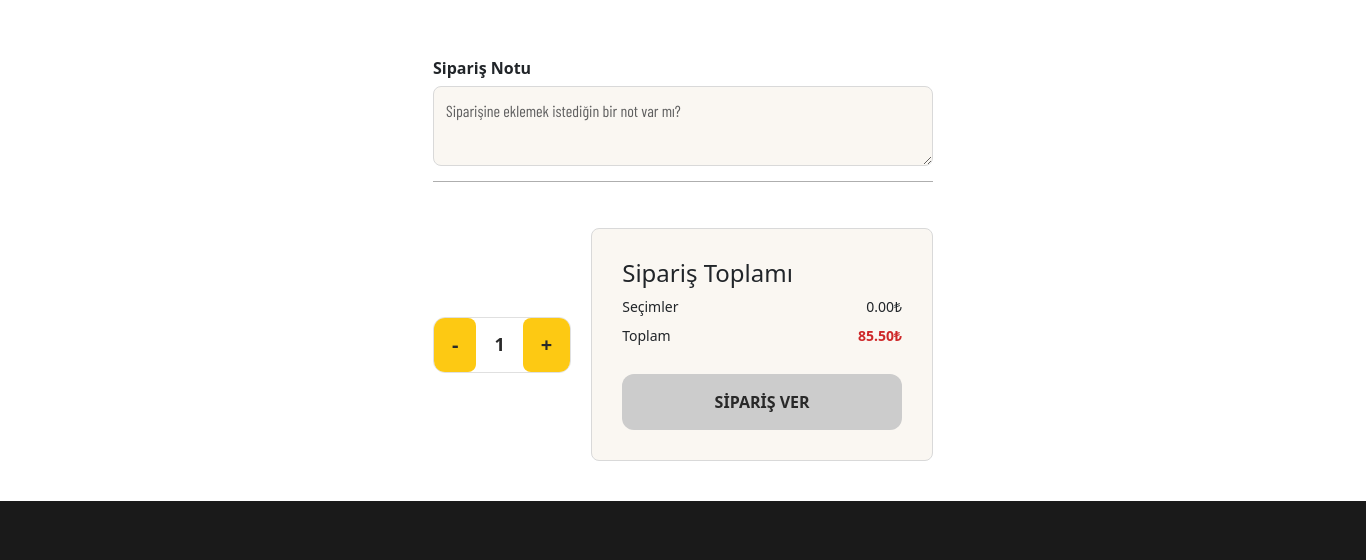
Scenario: Pizza Order Page Tests › should increase and decrease quantity
The image size is (1366, 560).
(page scrolled)
Click the button with test id "btn-increase": (547, 345) x1=523 y1=318 x2=571 y2=372
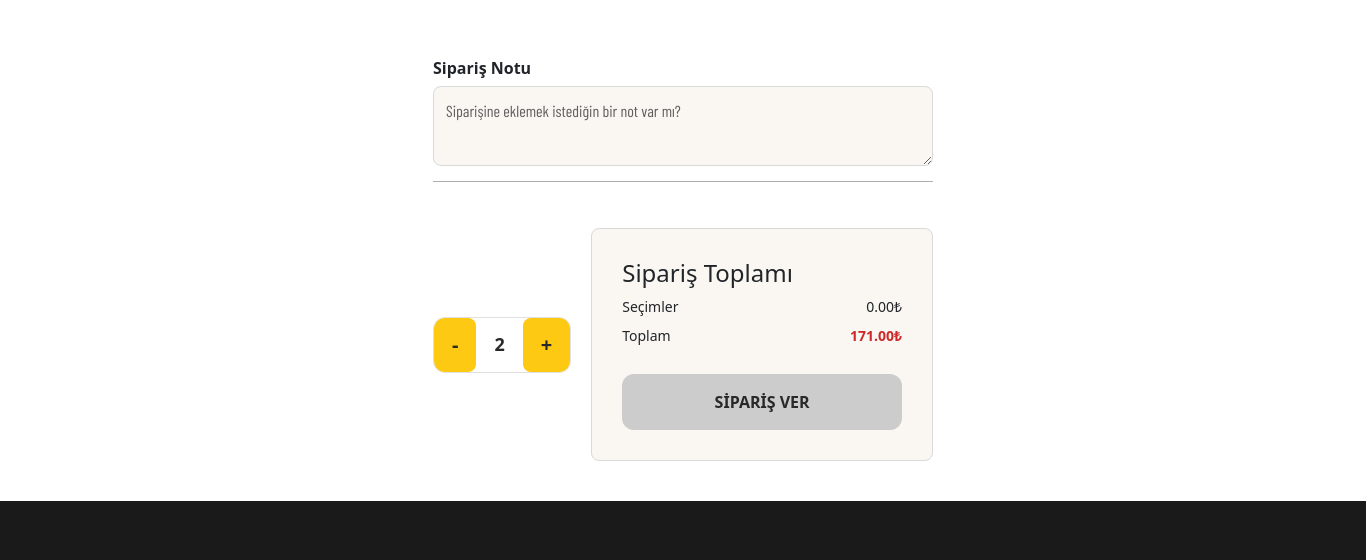
Result: the text with test id "quantity-display" reads "2" at x1=477 y1=319 x2=523 y2=370
Click the button with test id "btn-decrease": (456, 345) x1=434 y1=318 x2=477 y2=372
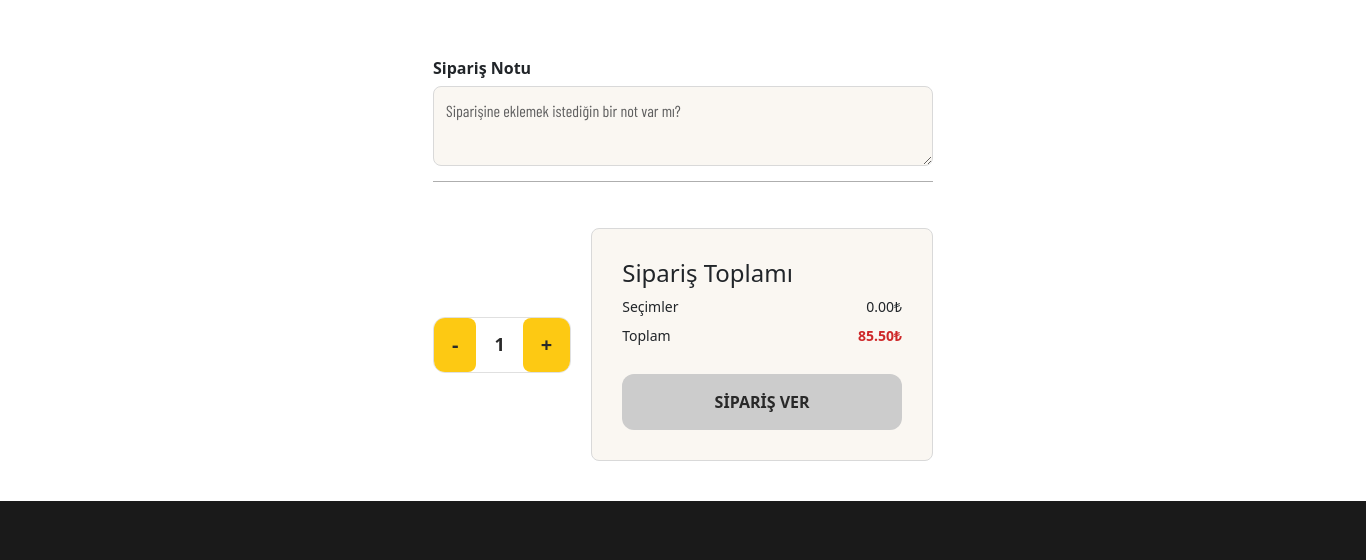
Result: the text with test id "quantity-display" reads "1" at x1=477 y1=319 x2=523 y2=370
